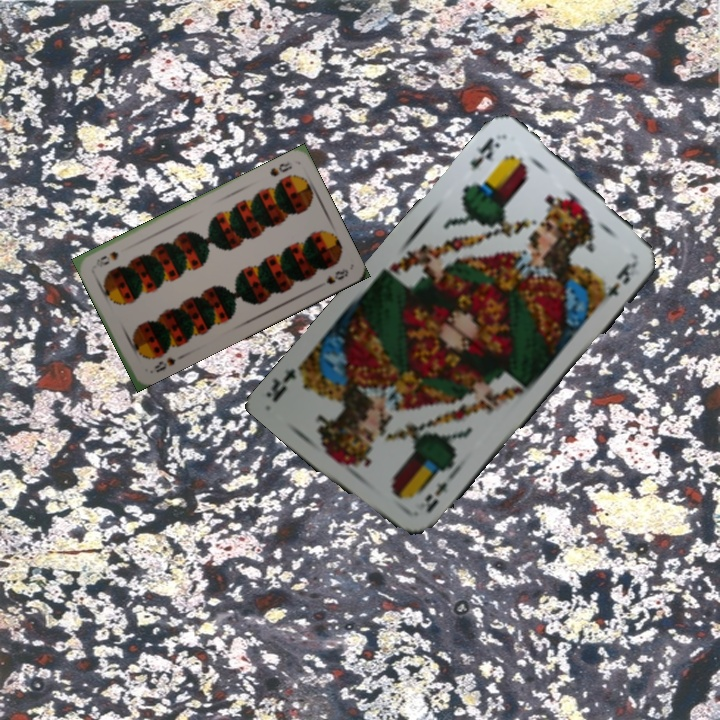EK: (465, 133, 503, 173), (420, 477, 451, 515)
S8: (150, 353, 178, 375), (266, 158, 294, 179)
